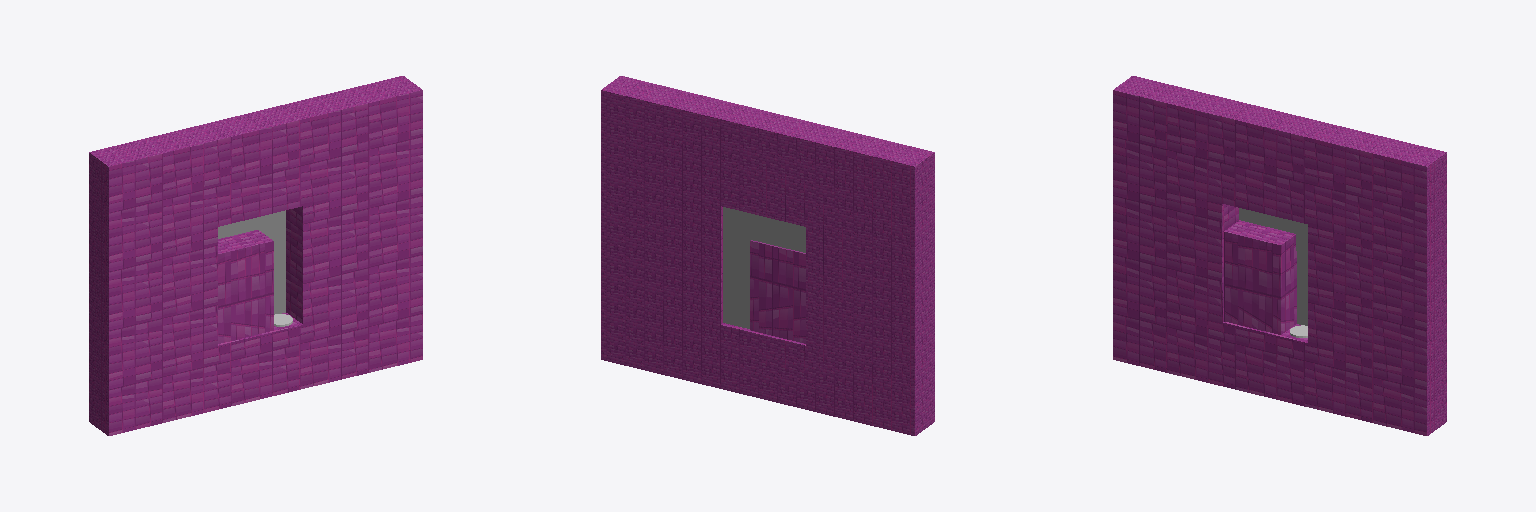
3 renders of one model, left to right at view 1: azimuth 30°, elevation 25°; view 2: azimuth 150°, elevation 25°; view 3: azimuth 330°, elevation 25°, orthographic.
Visible parts, largest first — view 1: Cube, Cube.002_Cube.003, Plane; view 2: Cube, Cube.002_Cube.003, Plane; view 3: Cube, Cube.002_Cube.003, Plane.
Boxes of the visible parts, x1,y1,x2,y2 form: Cube: [89, 76, 422, 435]; Cube.002_Cube.003: [218, 230, 273, 343]; Plane: [218, 210, 285, 314]; Cube: [601, 76, 934, 435]; Cube.002_Cube.003: [750, 240, 805, 343]; Plane: [723, 207, 805, 328]; Cube: [1113, 76, 1446, 435]; Cube.002_Cube.003: [1224, 220, 1296, 334]; Plane: [1239, 208, 1307, 325].
Bounding box in the file's own units: 33.12 × 27.16 × 3.61.
3 materials, 1 textured.